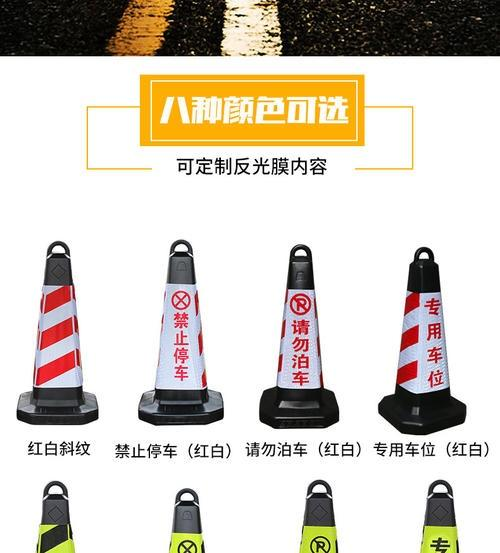cone_barrel: (379, 251, 468, 435), (15, 243, 102, 423), (138, 238, 222, 424), (259, 249, 339, 432), (291, 478, 346, 551), (412, 480, 466, 550), (30, 479, 79, 551), (163, 487, 208, 551)
